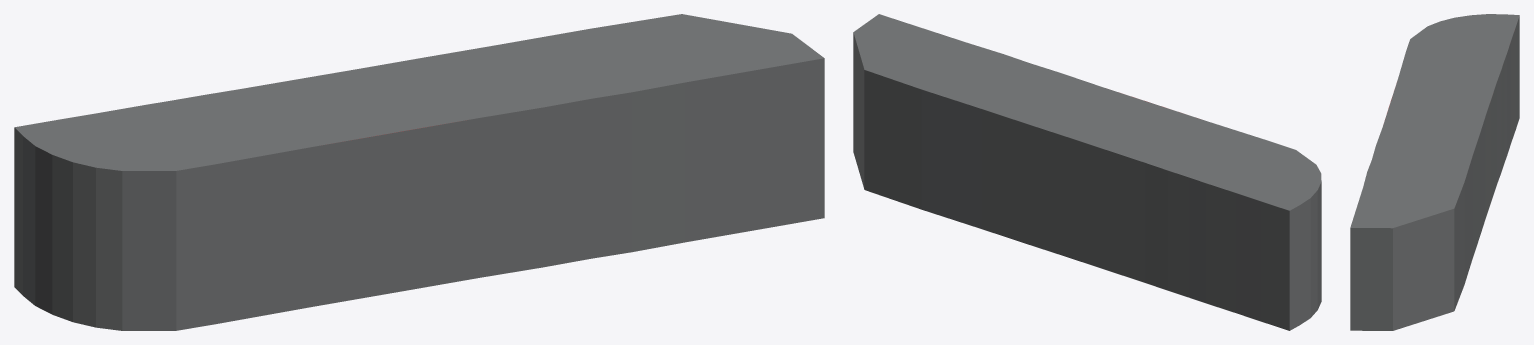
The picture shows the model from 3 angles, left to right: view 1: azimuth 30°, elevation 25°; view 2: azimuth 150°, elevation 25°; view 3: azimuth 270°, elevation 25°; orthographic projection. The views are drawn at different scales.
Parts seen in each view (by area): view 1: 8_6; view 2: 8_6; view 3: 8_6.
Part boxes in pixels (box(x1,y1,x2,y2)): 8_6: box(14, 14, 824, 330); 8_6: box(853, 14, 1321, 330); 8_6: box(1350, 14, 1519, 330).
Size of the model in its own units: 0.0508 by 0.0114 by 0.017.
Materials: 1 (1 with a texture image).
